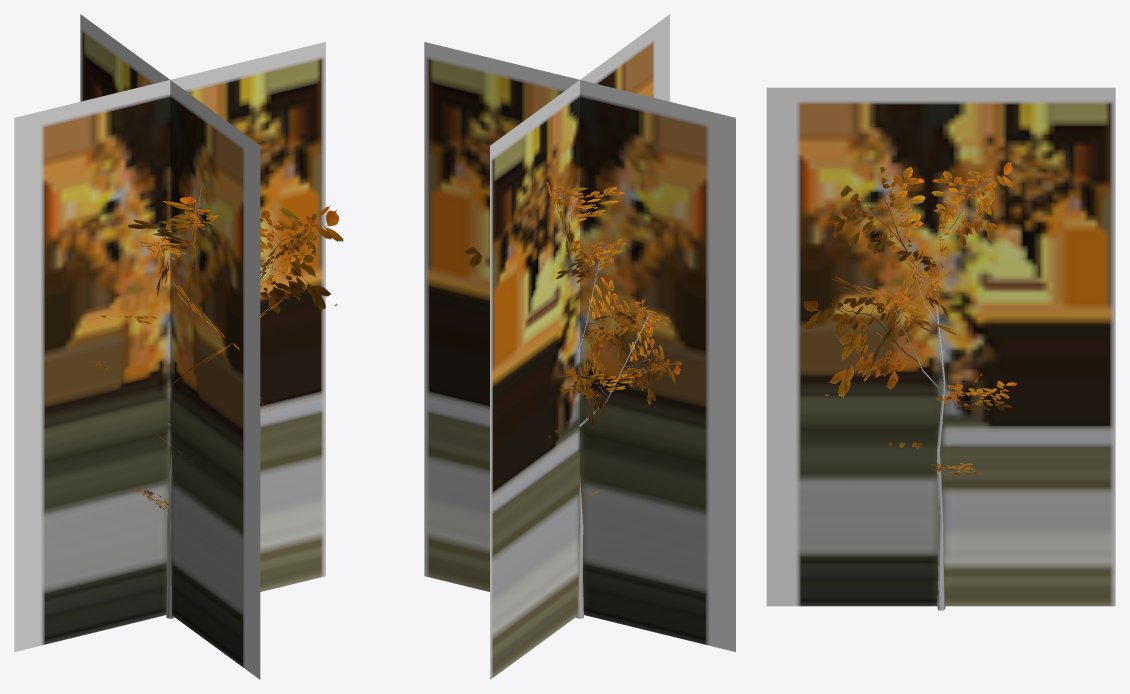
The model's file is Tree-Beech4B.fbx.
3 renders of one model, left to right at view 1: azimuth 30°, elevation 25°; view 2: azimuth 150°, elevation 25°; view 3: azimuth 270°, elevation 25°, orthographic. The views are drawn at different scales.
Parts seen in each view (by area): view 1: Billboard-BeechB, Tree-Beech4B_LOD0; view 2: Billboard-BeechB, Tree-Beech4B_LOD0; view 3: Billboard-BeechB, Tree-Beech4B_LOD0.
Part boxes in pixels (bbox=[...]): Billboard-BeechB: bbox=[14, 14, 325, 679]; Tree-Beech4B_LOD0: bbox=[69, 186, 343, 618]; Billboard-BeechB: bbox=[424, 14, 735, 679]; Tree-Beech4B_LOD0: bbox=[457, 182, 682, 618]; Billboard-BeechB: bbox=[766, 87, 1115, 606]; Tree-Beech4B_LOD0: bbox=[803, 162, 1017, 610].
Size of what is drawn, in the model's own units: 718 by 1114 by 681.
